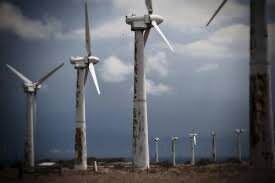faulty: (123, 8, 163, 129)
